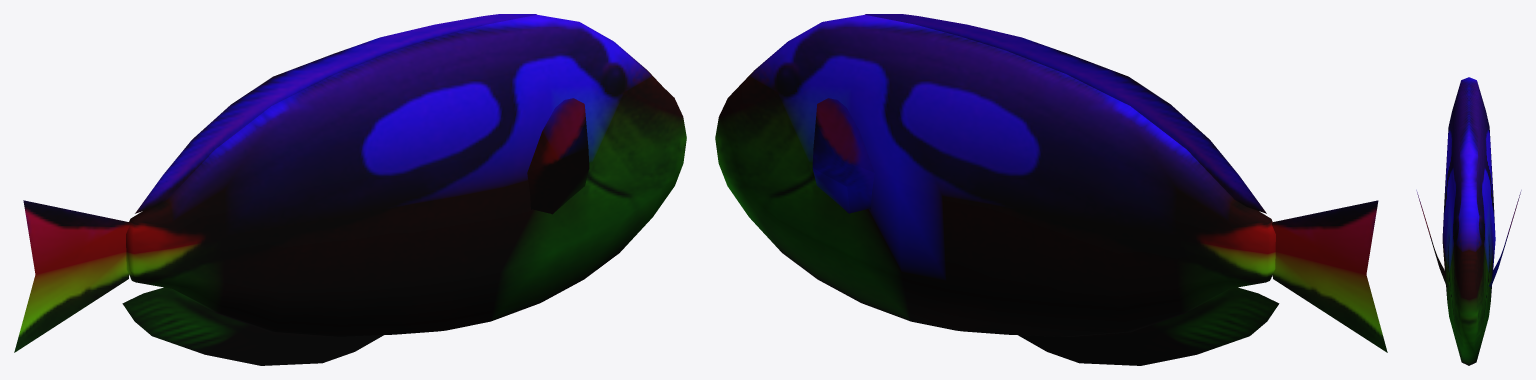
The model's file is blue_tang.glb.
The picture shows the model from 3 angles, left to right: view 1: azimuth 30°, elevation 25°; view 2: azimuth 150°, elevation 25°; view 3: azimuth 270°, elevation 25°; orthographic projection. The views are drawn at different scales.
Visible parts, largest first — view 1: BlueTang; view 2: BlueTang; view 3: BlueTang.
Part boxes in pixels (box(x1,y1,x2,y2)): BlueTang: box(14, 14, 686, 365); BlueTang: box(715, 14, 1387, 365); BlueTang: box(1416, 77, 1521, 365).
Bounding box in the file's own units: 1 × 0.4445 × 0.1886.
Materials: 1 (1 with a texture image).
